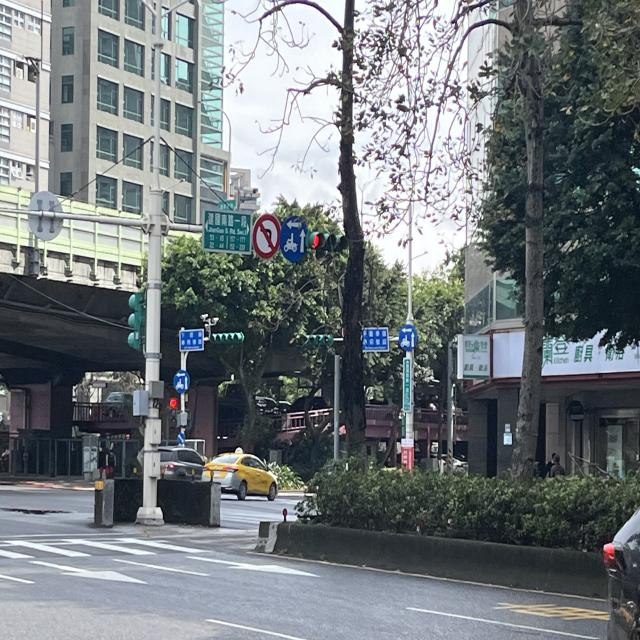red light: (306, 231, 348, 258), (168, 394, 178, 432)
